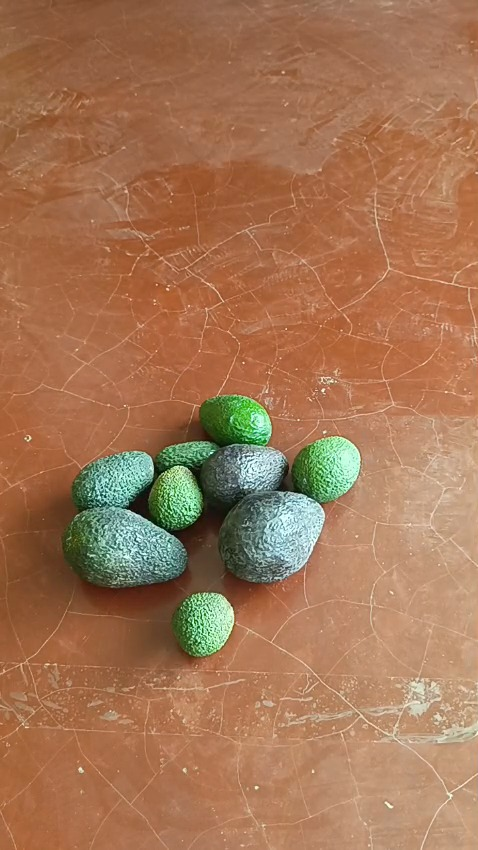Primera: (62, 506, 189, 588), (217, 489, 326, 582), (198, 442, 289, 510)
Segunda: (70, 450, 155, 512), (290, 435, 363, 502), (199, 394, 272, 446)
Tercera: (171, 590, 234, 656), (148, 465, 204, 530), (154, 441, 219, 475)
